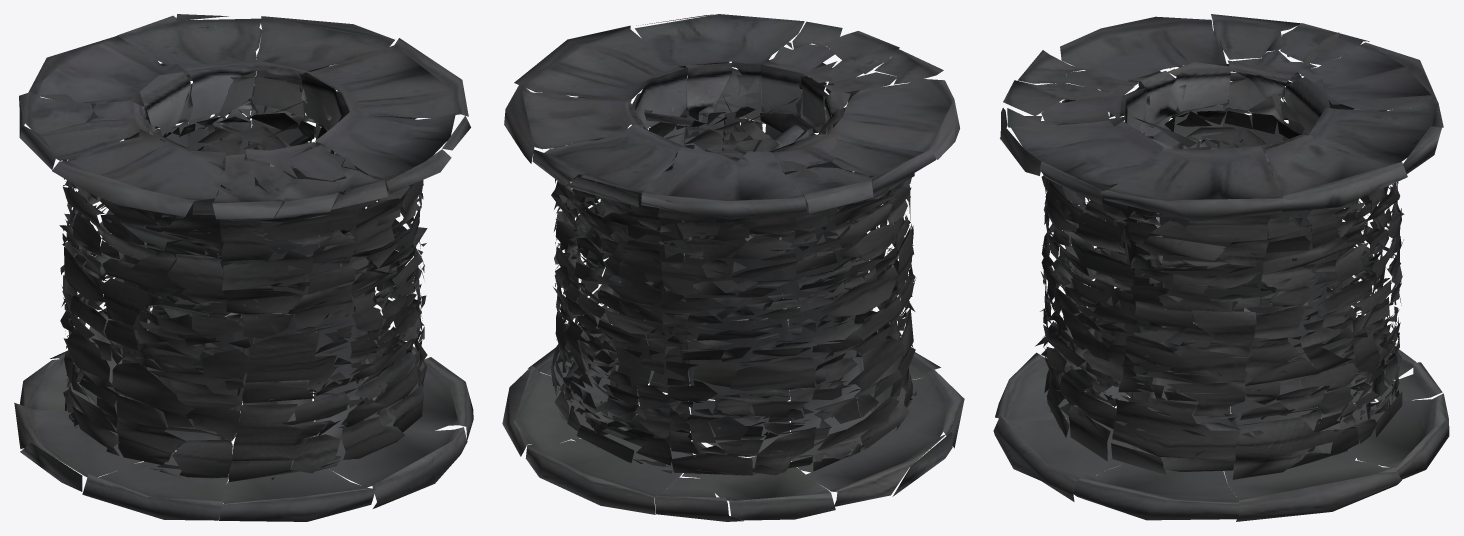
The model's file is cable_spool.glb.
The picture shows the model from 3 angles, left to right: view 1: azimuth 30°, elevation 25°; view 2: azimuth 150°, elevation 25°; view 3: azimuth 270°, elevation 25°; orthographic projection.
Parts seen in each view (by area): view 1: tripo_node_45711a1a-aa67-4a36-8922-765bc6ce2d1e; view 2: tripo_node_45711a1a-aa67-4a36-8922-765bc6ce2d1e; view 3: tripo_node_45711a1a-aa67-4a36-8922-765bc6ce2d1e.
Boxes of the visible parts, x1,y1,x2,y2 form: tripo_node_45711a1a-aa67-4a36-8922-765bc6ce2d1e: (14, 14, 473, 521); tripo_node_45711a1a-aa67-4a36-8922-765bc6ce2d1e: (502, 14, 964, 521); tripo_node_45711a1a-aa67-4a36-8922-765bc6ce2d1e: (993, 14, 1449, 521).
Bounding box in the file's own units: 0.9991 × 0.7974 × 0.9989.
1 material, 1 textured.
